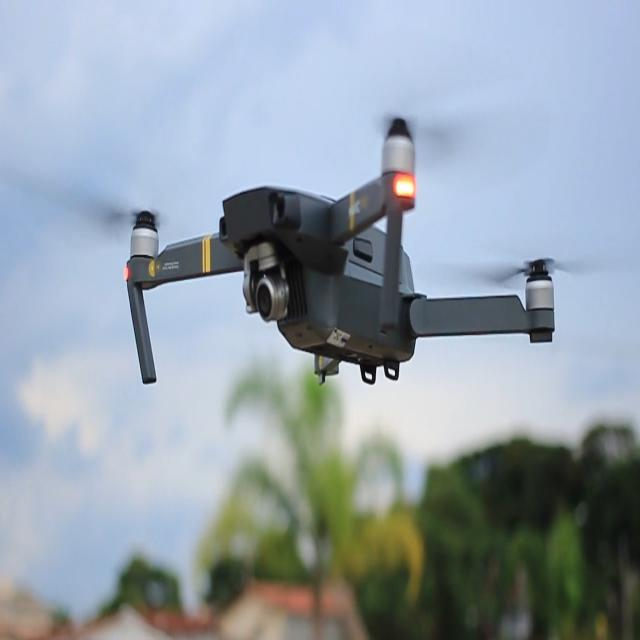Drone: (122, 119, 554, 386)
